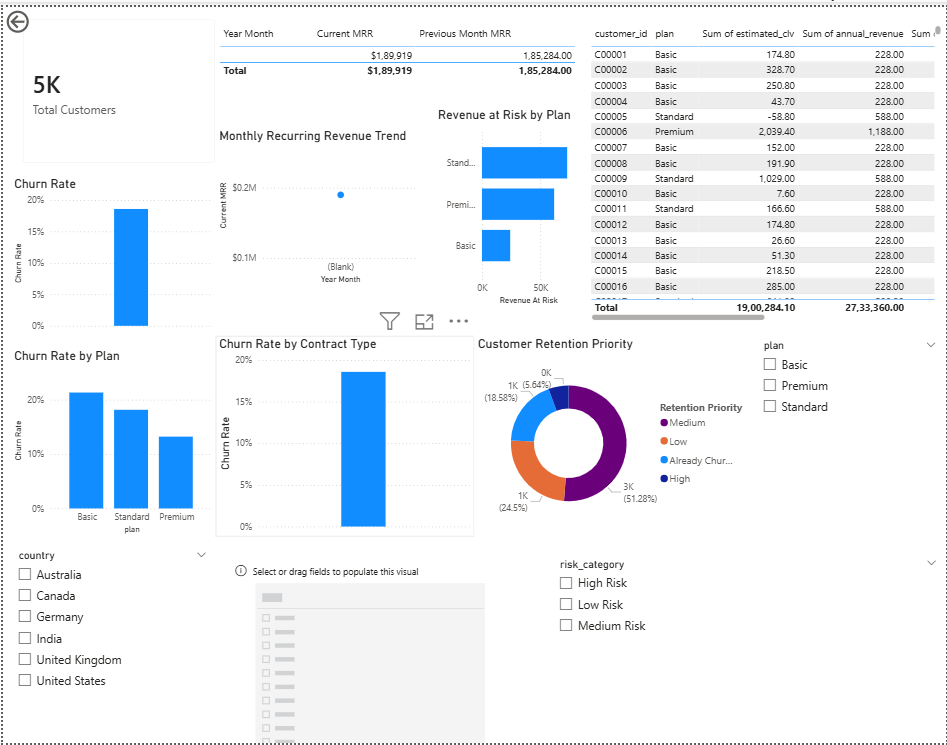

What the dashboard file says about the page in this screenshot:
{"tool":"powerbi","page":{"name":"Page 1","canvas":[1280,1500],"ordinal":3},"visuals":[{"type":"cardVisual","fields":{"Data":["fact_subscription.Total Customers"]},"box":[9.5,0,295.6,229.2],"z":0},{"type":"clusteredColumnChart","fields":{"Y":["fact_subscription.Churn Rate"]},"box":[9.5,229.2,279.8,218.1],"z":1000},{"type":"tableEx","fields":{"Values":["DateTable.Year Month","fact_subscription.Current MRR","DateTable.Previous Month MRR"]},"box":[289.3,20.5,504.2,94.8],"z":2000},{"type":"lineChart","title":"Monthly Recurring Revenue Trend","fields":{"Category":["DateTable.Year Month"],"Y":["fact_subscription.Current MRR"]},"box":[289.3,164.4,279.8,216.5],"z":3000},{"type":"clusteredColumnChart","title":"Churn Rate by Plan","fields":{"Category":["dim_plan.plan"],"Y":["fact_subscription.Churn Rate"]},"box":[9.5,463.1,279.8,257.6],"z":4000},{"type":"clusteredColumnChart","title":"Churn Rate by Contract Type","fields":{"Category":["dim_contract.contract_type"],"Y":["fact_subscription.Churn Rate"]},"box":[289.3,447.3,350.9,273.5],"z":5000},{"type":"clusteredBarChart","title":"Revenue at Risk by Plan","fields":{"Category":["dim_plan.plan"],"Y":["fact_subscription.Revenue At Risk"]},"box":[586.4,135.9,207.1,273.5],"z":6000},{"type":"donutChart","title":"Customer Retention Priority","fields":{"Category":["fact_subscription.Retention Priority"],"Y":["fact_subscription.Total Customers"]},"box":[640.2,447.3,380.9,273.5],"z":7000},{"type":"tableEx","fields":{"Values":["dim_customer.customer_id","dim_plan.plan","Sum(fact_subscription.estimated_clv)","Sum(fact_subscription.annual_revenue)","Sum(fact_subscription.risk_score)","fact_subscription.risk_category","Sum(fact_subscription.days_since_last_login)","fact_subscription.Retention Priority"]},"box":[793.5,20.5,486.8,411],"z":8000},{"type":"actionButton","box":[0,0,100,40],"z":9000},{"type":"slicer","fields":{"Values":["dim_plan.plan"]},"box":[1021,447,259,273],"z":10000},{"type":"slicer","fields":{"Values":["dim_customer.country"]},"box":[9,732,280,258],"z":11000},{"type":"slicer","fields":{"Values":["dim_contract.contract_type"]},"box":[306.7,750,383.3,260],"z":12000},{"type":"slicer","fields":{"Values":["fact_subscription.risk_category"]},"box":[743.3,743.3,536.7,256.7],"z":13000}]}

Visuals, with their boxes on the page's 1280x1500 design canvas (x1, y1, x2, y2). These are canvas units, not pixel positions in the 947x745 screenshot, which may show the page scaled, cropped or inside an application window:
cardVisual - fact_subscription.Total Customers: [10, 0, 305, 229]
clusteredColumnChart - fact_subscription.Churn Rate: [10, 229, 289, 447]
tableEx - DateTable.Year Month x fact_subscription.Current MRR: [289, 20, 794, 115]
"Monthly Recurring Revenue Trend" lineChart: [289, 164, 569, 381]
"Churn Rate by Plan" clusteredColumnChart: [10, 463, 289, 721]
"Churn Rate by Contract Type" clusteredColumnChart: [289, 447, 640, 721]
"Revenue at Risk by Plan" clusteredBarChart: [586, 136, 794, 409]
"Customer Retention Priority" donutChart: [640, 447, 1021, 721]
tableEx - dim_customer.customer_id x dim_plan.plan: [794, 20, 1280, 432]
actionButton: [0, 0, 100, 40]
slicer - dim_plan.plan: [1021, 447, 1280, 720]
slicer - dim_customer.country: [9, 732, 289, 990]
slicer - dim_contract.contract_type: [307, 750, 690, 1010]
slicer - fact_subscription.risk_category: [743, 743, 1280, 1000]
